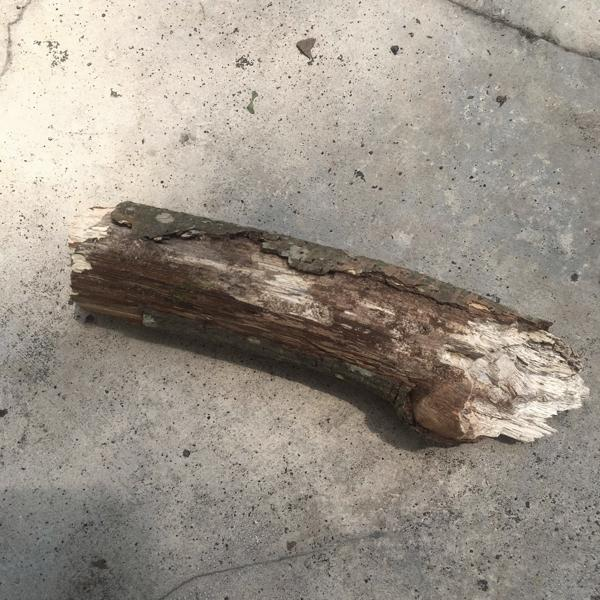Organik: (77, 175, 587, 483)
